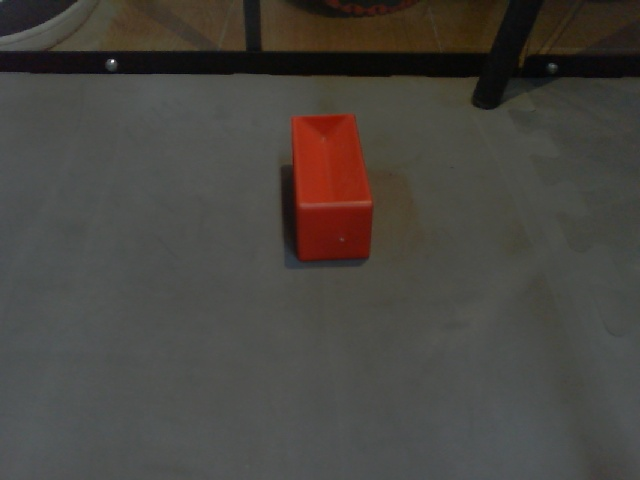RedSample: (284, 109, 377, 262)
